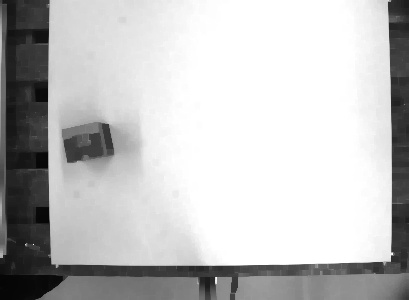b7: (56, 119, 118, 165)
